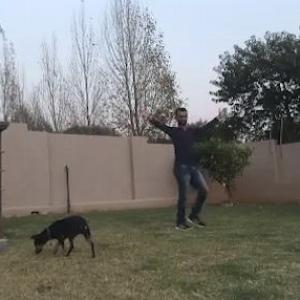takeoff: (118, 104, 230, 226)
